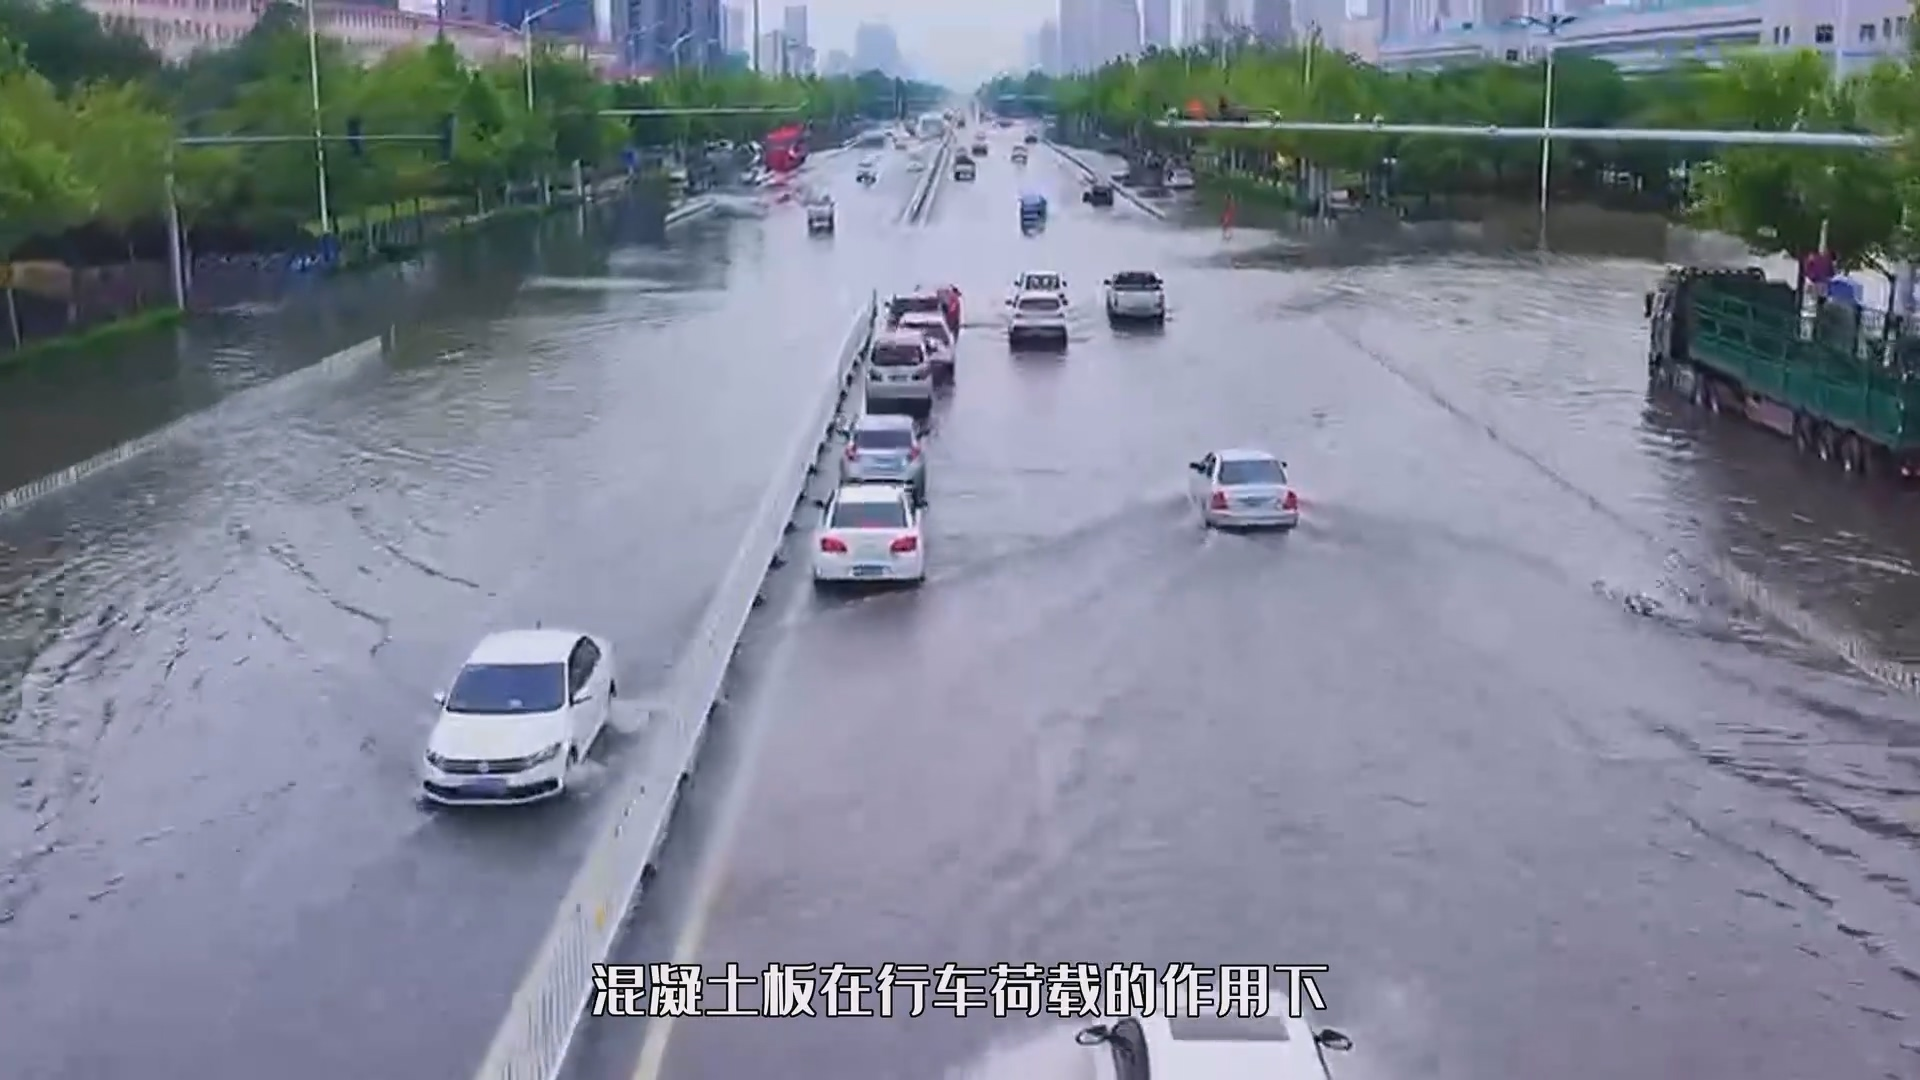puddle: (3, 297, 1920, 1080)
